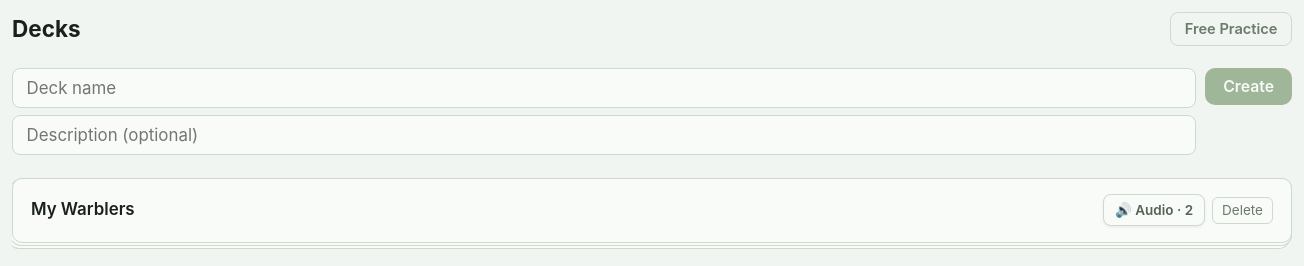
Scenario: Decks page › deletes a deck when delete button clicked
Step 1. Click the button "Delete" → (1243, 210), box top-left (1212, 196), bottom-right (1273, 224)
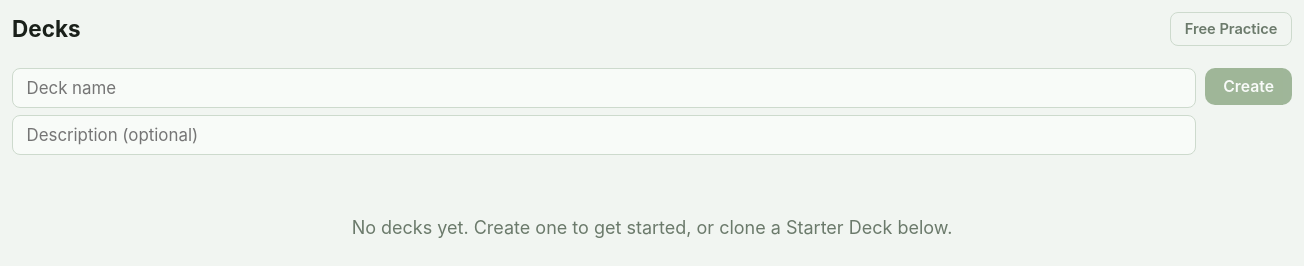
Expected: the link "My Warblers" is gone
